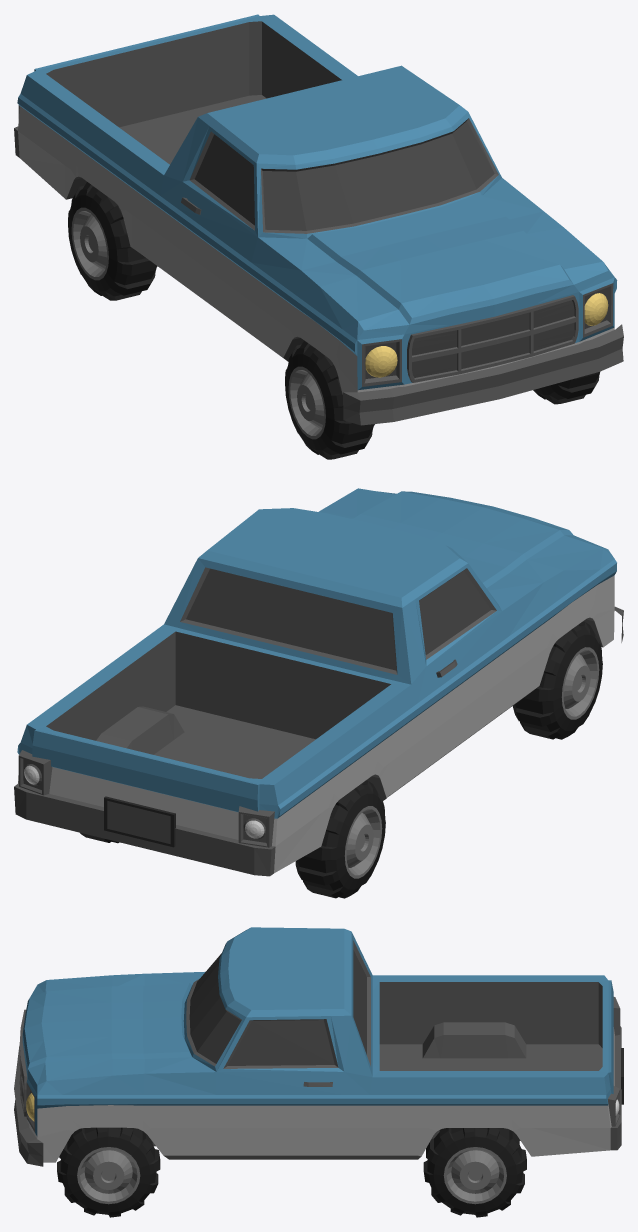
File: pickup-truck-player.glb
3 renders of one model, top to bottom at view 1: azimuth 30°, elevation 25°; view 2: azimuth 150°, elevation 25°; view 3: azimuth 270°, elevation 25°, orthographic. The views are drawn at different scales.
Visible parts, largest first — view 1: body, wheel-rear, wheel-front-left, wheel-front-right; view 2: body, wheel-rear, wheel-front-left; view 3: body, wheel-rear, wheel-front-right.
Boxes of the visible parts, x1,y1,x2,y2 form: body: [14, 14, 623, 425]; wheel-rear: [68, 182, 157, 300]; wheel-front-left: [285, 340, 374, 459]; wheel-front-right: [533, 372, 599, 404]; body: [14, 488, 623, 876]; wheel-rear: [80, 780, 385, 898]; wheel-front-left: [512, 621, 602, 739]; body: [14, 927, 623, 1166]; wheel-rear: [423, 1128, 526, 1217]; wheel-front-right: [57, 1127, 160, 1217].
Bounding box in the file's own units: 2.31 × 1.85 × 5.18.
Materials: 2 (2 with a texture image).
